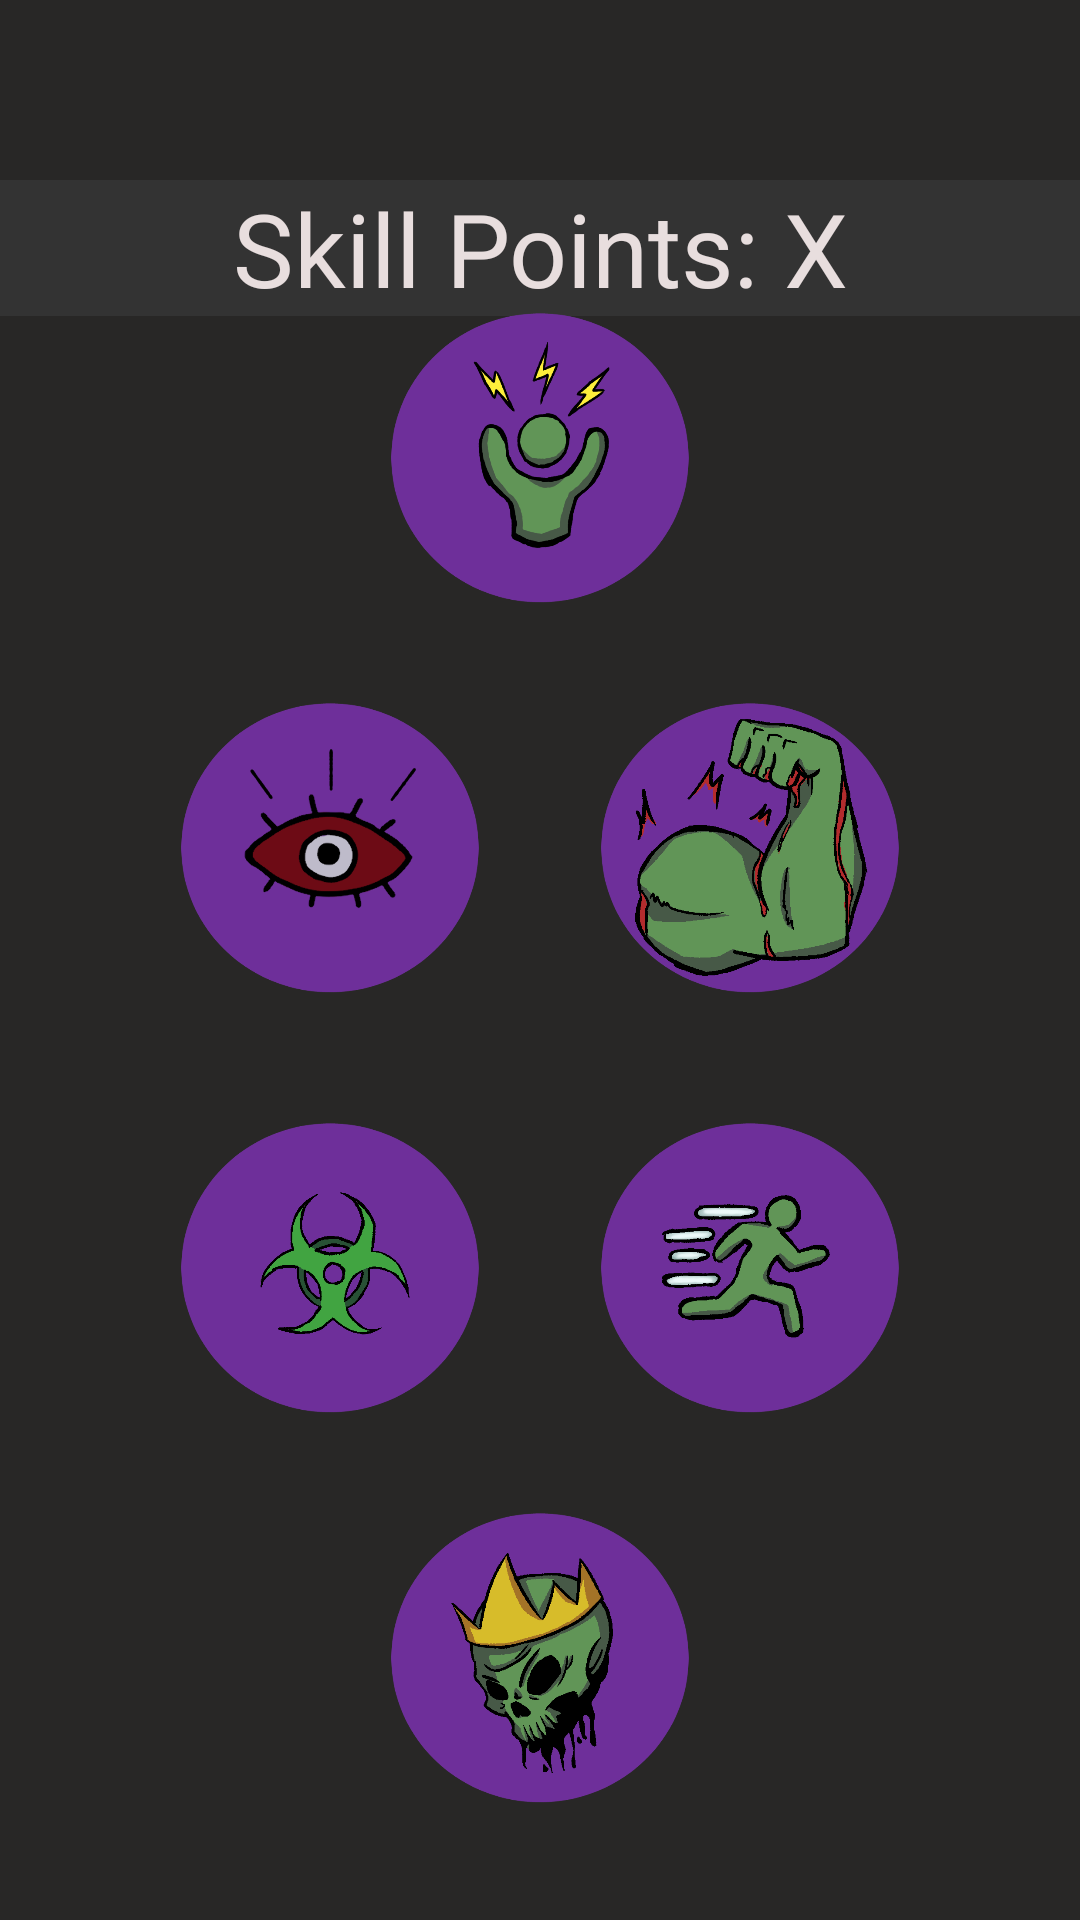

Screen size 1080w x 1920h. Icon name, then its box in pixels as (x1, y1, x2, y2):
agility: (601, 1123, 899, 1412)
apex: (391, 1513, 689, 1802)
tank: (601, 703, 899, 992)
